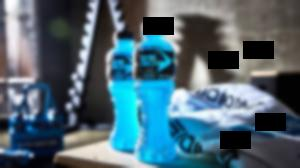powerade_mountainblast: (131, 15, 182, 166), (101, 30, 140, 154)
